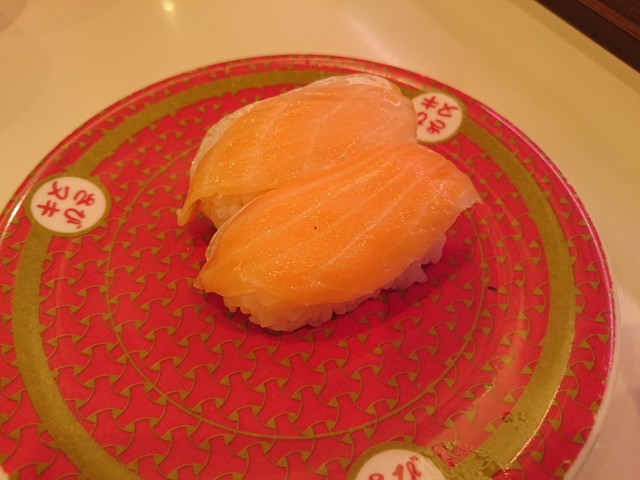salmon: (223, 140, 472, 324), (190, 75, 418, 208)
